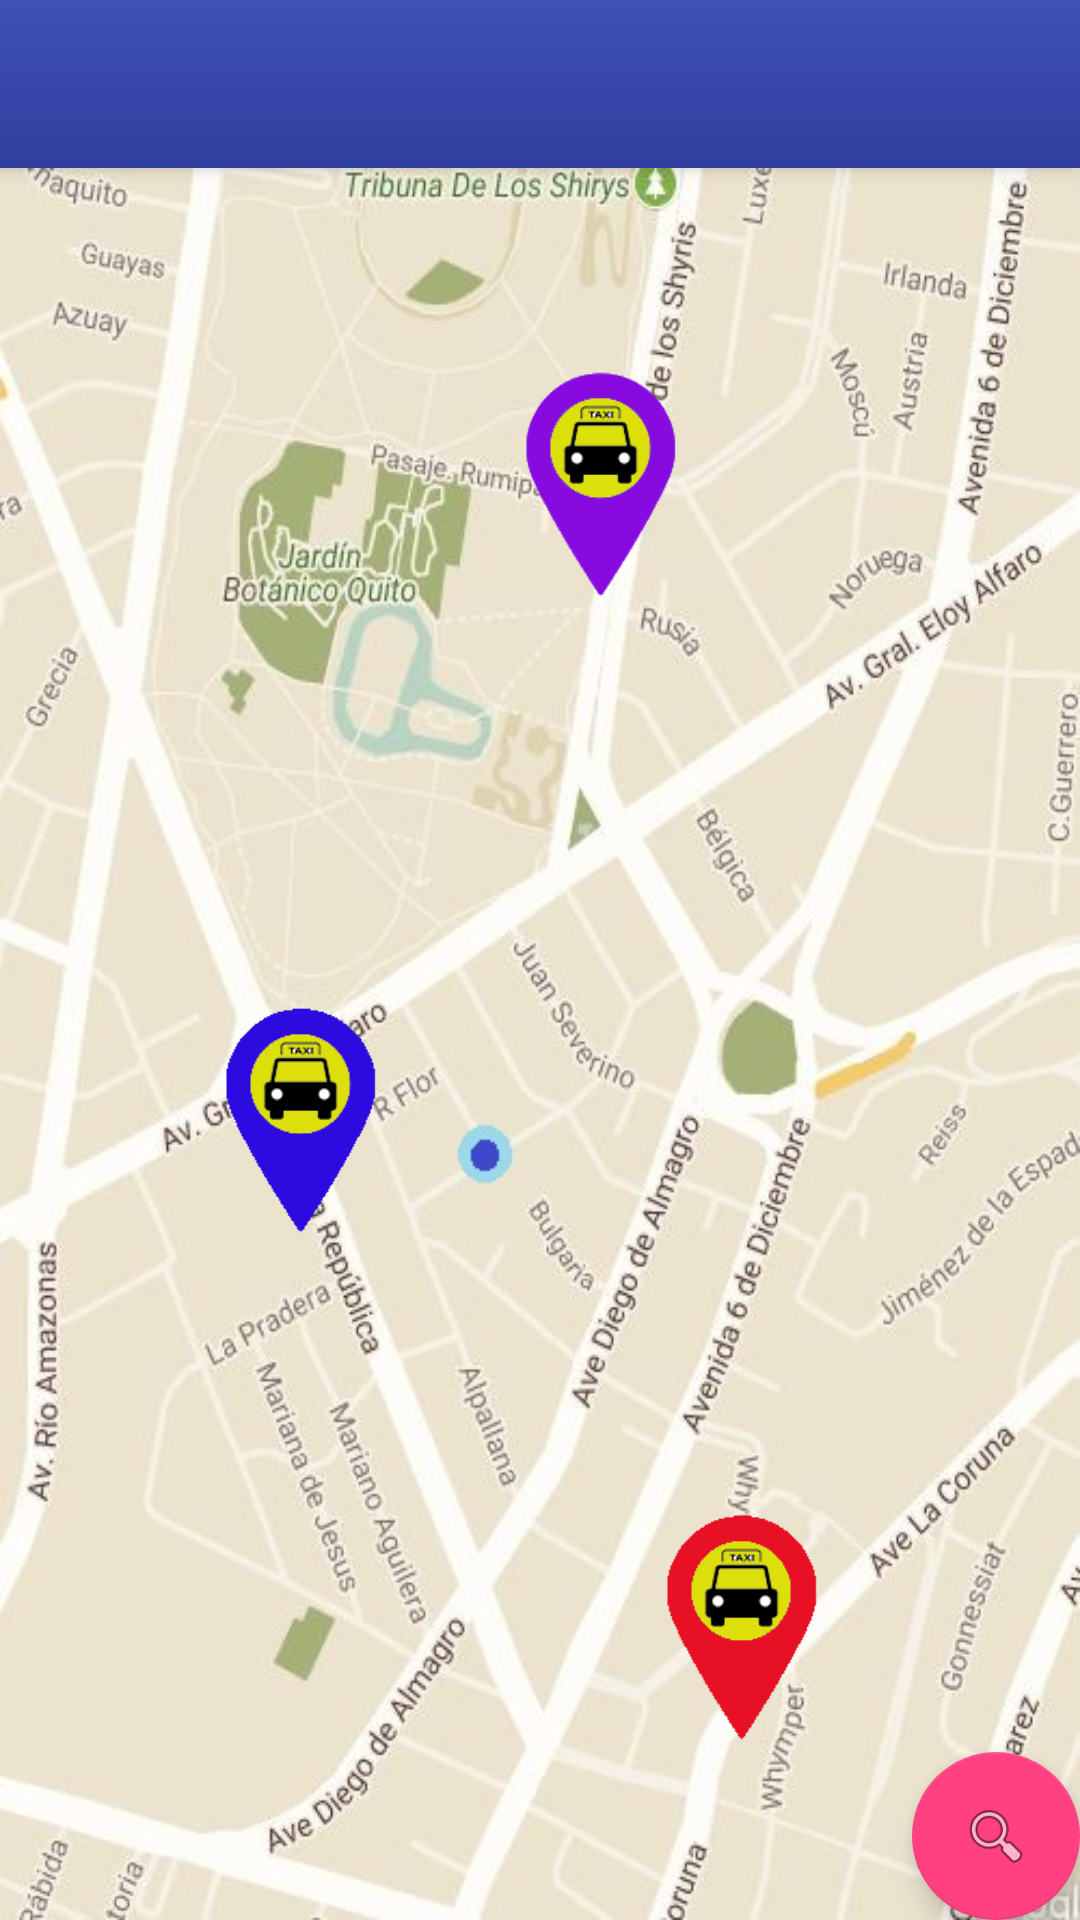

Locate icon controls on the screen. Image size 1080w x 1920h, boxes as (x1, y1, x2, y2).
search: (912, 1752, 1080, 1920)
